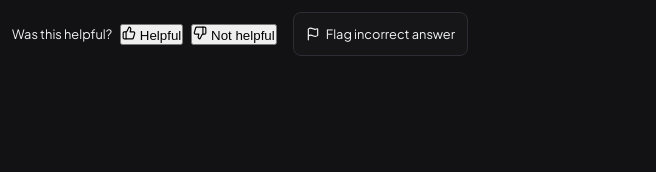
Tutor feedback eligibility and controls › locks repeated/opposite clicks during pending and retains success across tab unmount
The width and height of the screenshot is (656, 172).
Later steps or results of the test are not shown.
Click the button "Helpful": [152, 34] box [120,24,183,44]
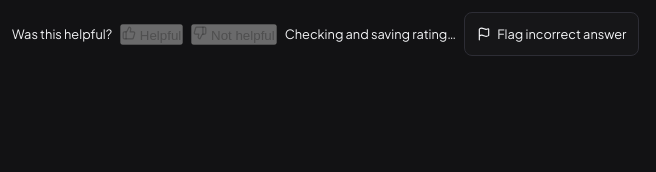
Click the button "Not helpful": [234, 34] box [191,24,277,44]
Now the message shows "Checking and saving", box [285,26,456,42]
